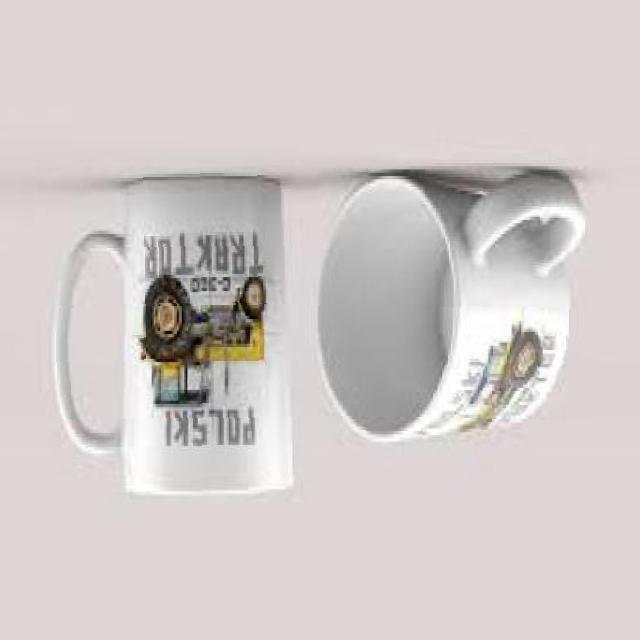cup: (45, 165, 301, 501), (312, 168, 594, 448)
